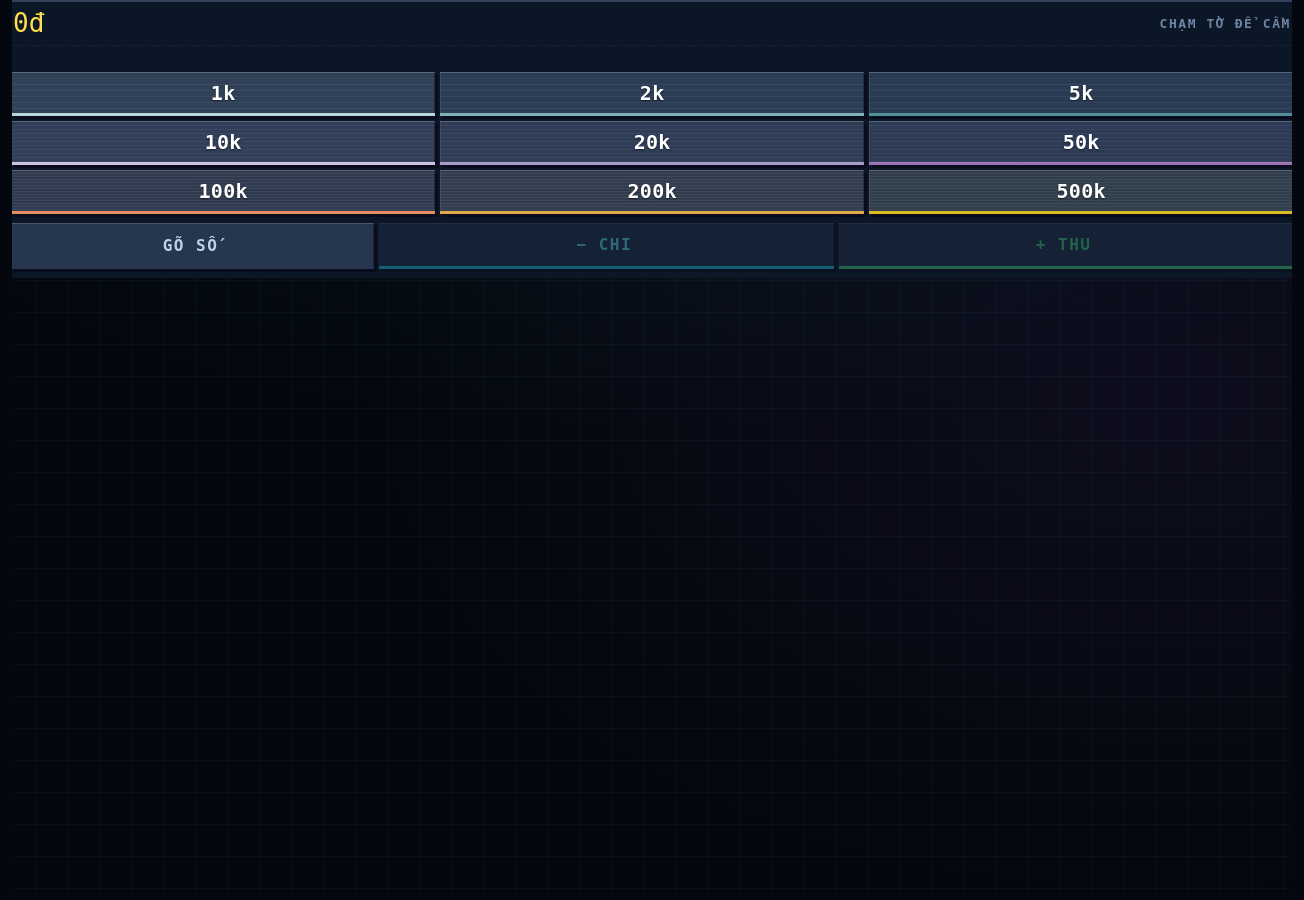
Test: §VII-bis — ⭐⭐⭐ chạm RA NGOÀI ⇒ bàn tiền thu xuống (D420) › ⭐⭐ khay rỗng mà thu ⇒ hàng khay nói "▲ GHI TIỀN"
The width and height of the screenshot is (1304, 900).
(page scrolled)
Click the element that starts with "CHẠM TỜ ĐỂ CẦM" at (652,450), box top-left (12, 0), bottom-right (1292, 899)
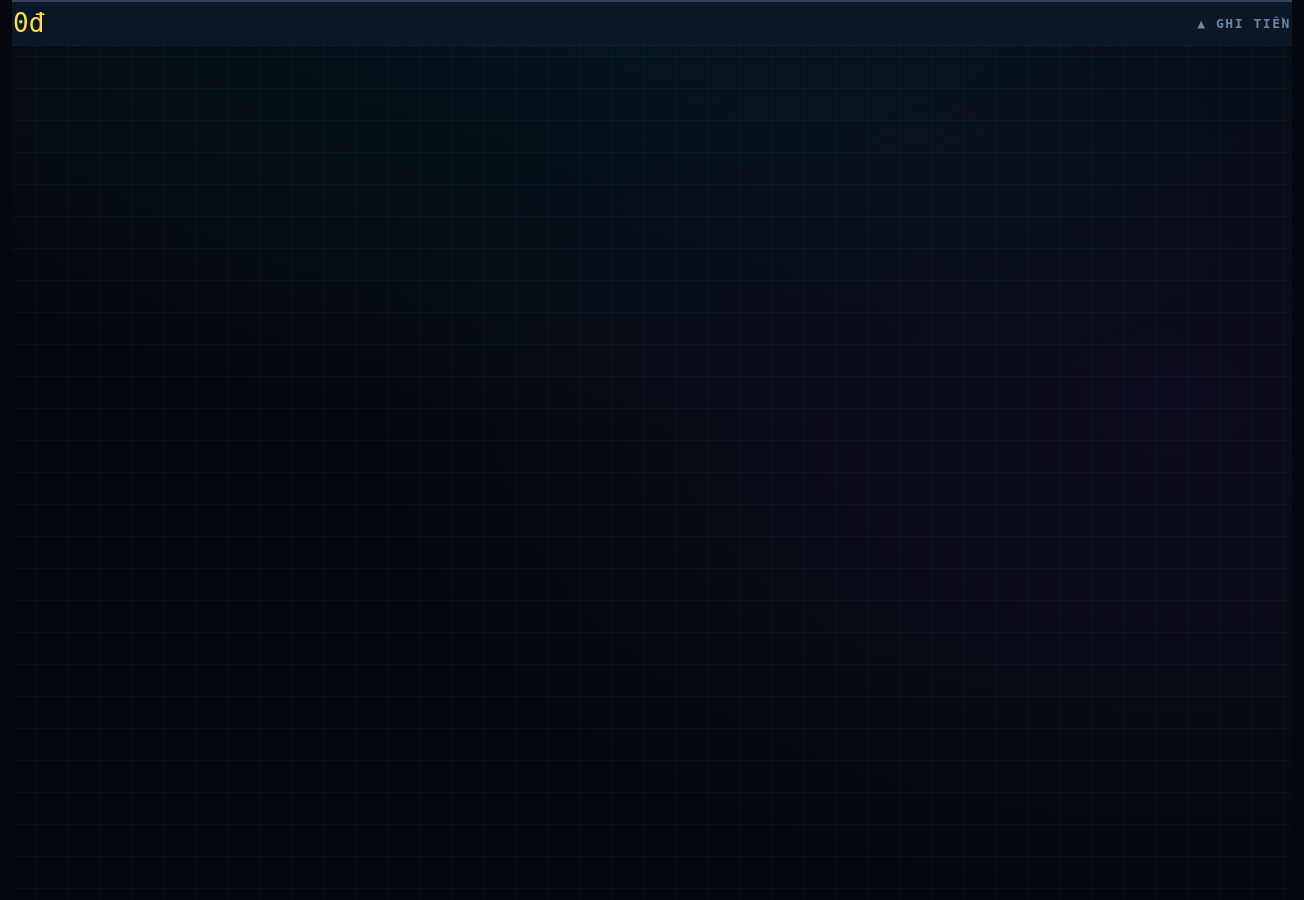
Expected: the text "▲ GHI TIỀN" is shown, top-left (1189, 14), bottom-right (1291, 33)
